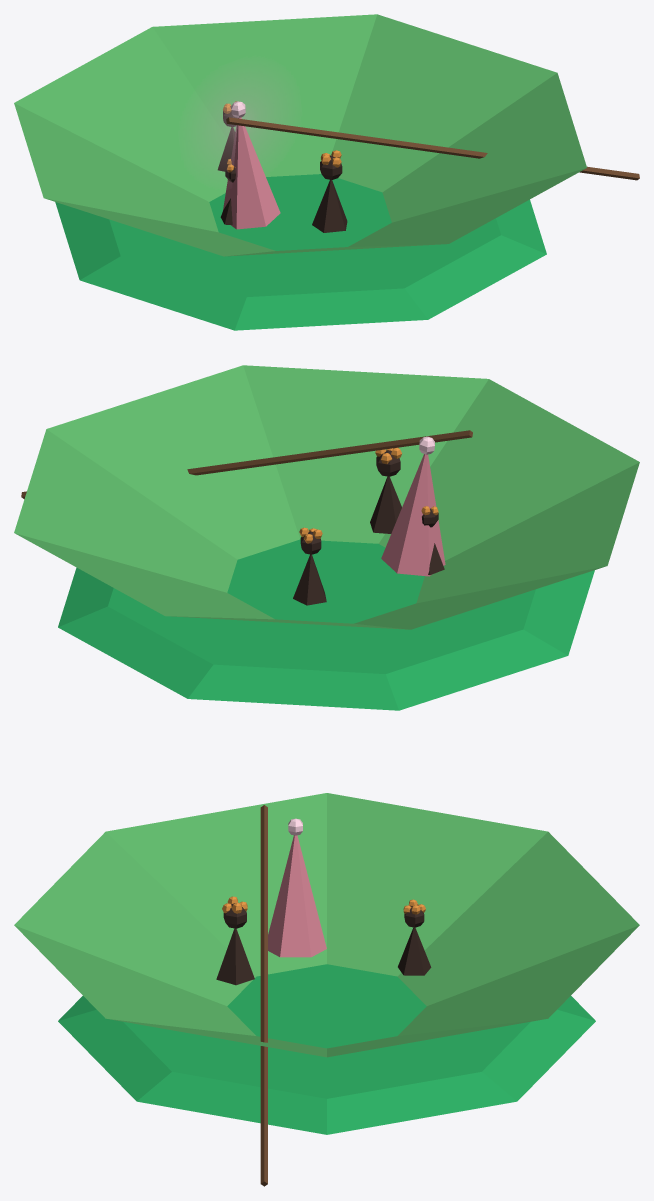
File: swamp_lotusLeafBoat.glb
3 views of the same model, one above another, from view 1: azimuth 30°, elevation 25°; view 2: azimuth 150°, elevation 25°; view 3: azimuth 270°, elevation 25° (orthographic). The views are drawn at different scales.
Parts seen in each view (by area): view 1: n1, n2, n49, n46, n43, n5; view 2: n1, n2, n46, n43, n5, n18; view 3: n1, n2, n46, n43, n5, n18.
Part boxes in pixels (box(x1,y1,x2,y2)): n1: box(14, 14, 586, 256); n2: box(55, 174, 546, 330); n49: box(199, 79, 280, 166); n46: box(223, 117, 280, 229); n43: box(226, 117, 639, 180); n5: box(312, 179, 347, 232); n1: box(14, 365, 639, 629); n2: box(58, 539, 594, 710); n46: box(381, 454, 445, 576); n43: box(21, 430, 472, 499); n5: box(370, 476, 401, 533); n18: box(293, 554, 326, 605); n1: box(14, 793, 639, 1057); n2: box(58, 964, 595, 1134); n46: box(268, 835, 326, 957); n43: box(260, 805, 267, 1186); n5: box(216, 928, 254, 985); n18: box(398, 927, 431, 975).
Size of the model in its own units: 9.25 by 3.63 by 8.4.
